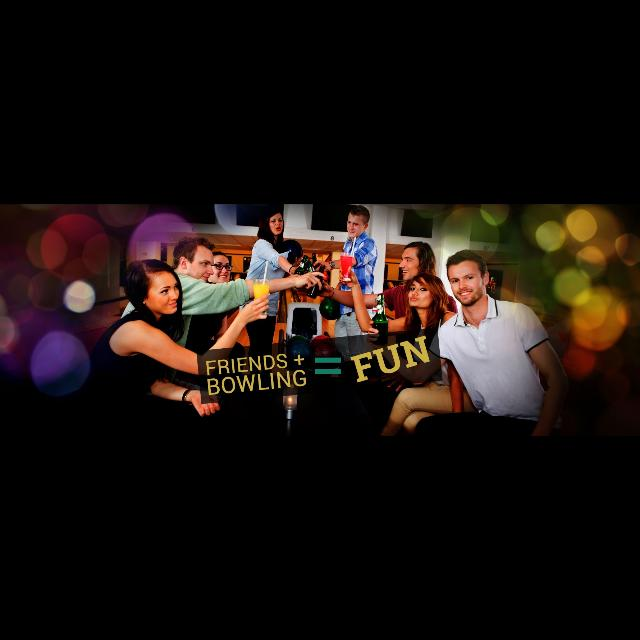head: (125, 260, 182, 316), (447, 252, 491, 308), (173, 240, 214, 288), (398, 241, 436, 283), (408, 274, 444, 308), (346, 206, 372, 238), (262, 208, 284, 236)
person: (242, 205, 314, 432), (310, 204, 380, 436)
